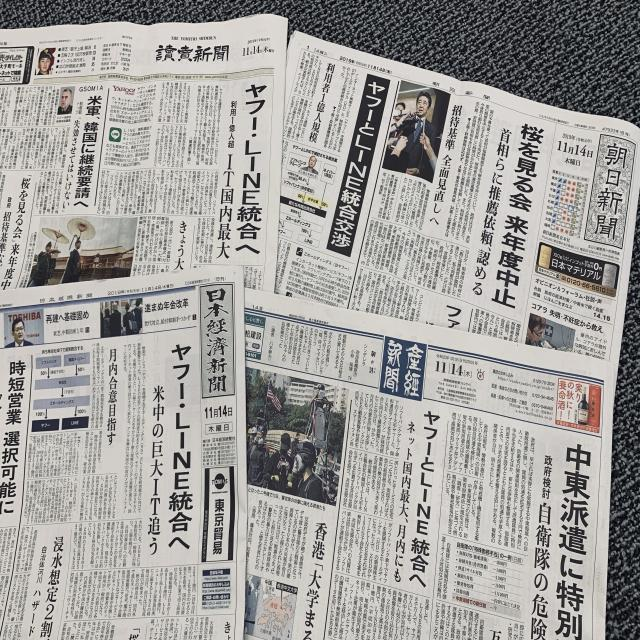newspaper: (241, 290, 612, 640), (273, 20, 640, 351), (0, 274, 247, 640), (0, 16, 287, 284)
